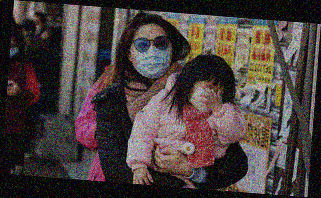with_mask: (129, 33, 173, 79), (189, 82, 225, 113), (10, 41, 21, 58)
